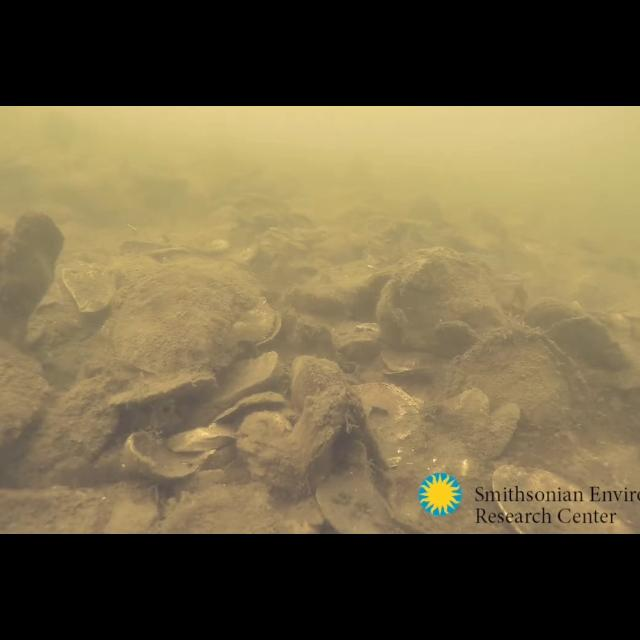Oyster-Closed: (111, 260, 281, 374), (442, 326, 590, 434), (292, 386, 348, 472), (433, 318, 479, 352)
Oyster-Indeterminate: (376, 246, 510, 358), (19, 378, 119, 492), (315, 440, 427, 534), (492, 464, 632, 534), (0, 208, 66, 354), (235, 412, 309, 504), (544, 316, 632, 370), (112, 368, 218, 404), (433, 387, 491, 449), (212, 350, 280, 400), (476, 402, 522, 460), (212, 392, 292, 422), (522, 296, 584, 334)
